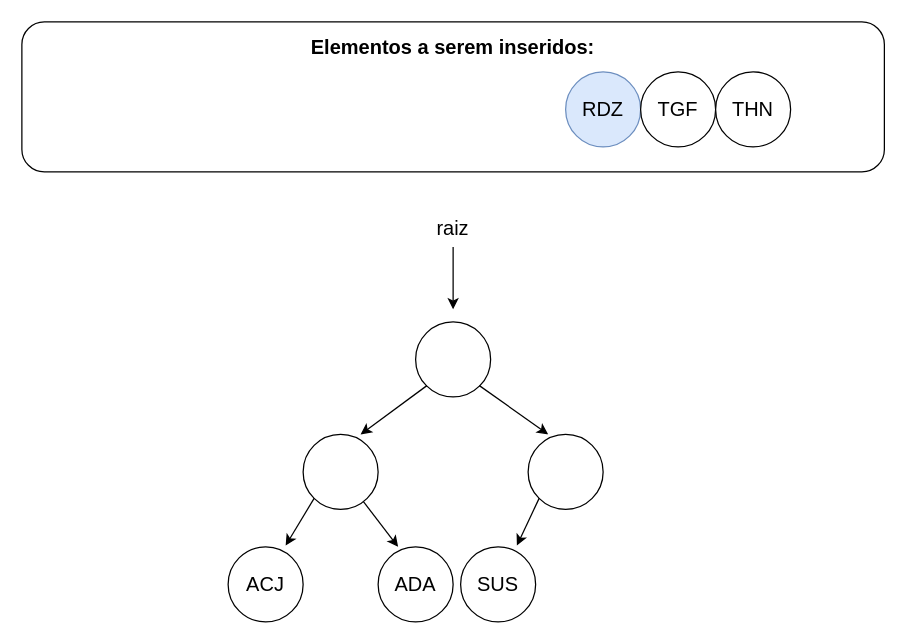
The diagram is 906 pixels wide and 644 high, and some of its shapes have lost their labels. The shapes that lost their labels are listed below. From the top down, each one's centre as x and y in pixels, then its label:
At point (452, 359): "CFV".
At point (340, 471): "ACK".
At point (565, 471): "ZIR".
